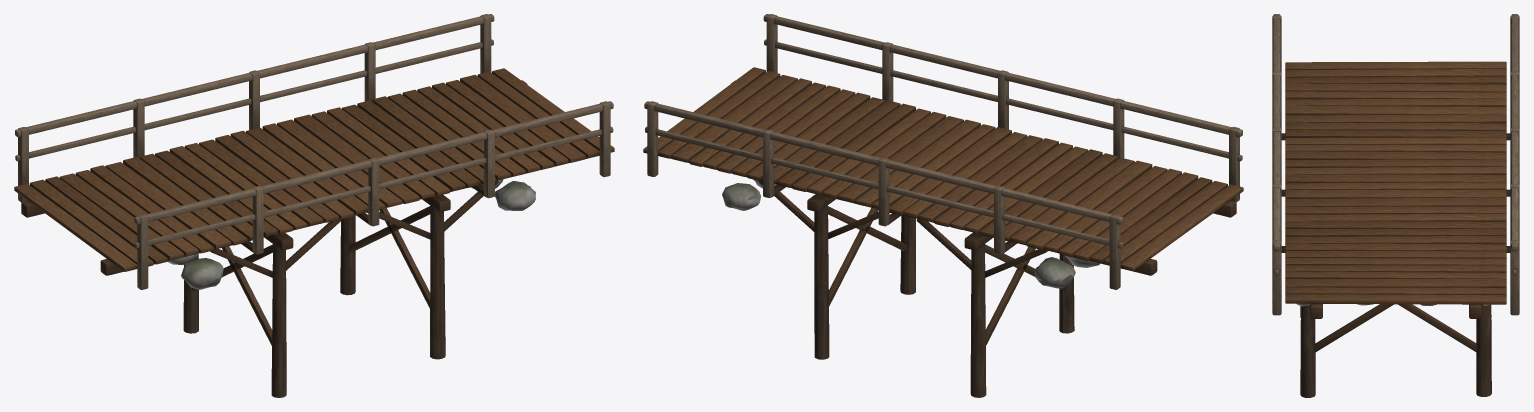
The model's file is bridge.glb.
3 views of the same model, side by side, from view 1: azimuth 30°, elevation 25°; view 2: azimuth 150°, elevation 25°; view 3: azimuth 270°, elevation 25° (orthographic).
Visible parts, largest first — view 1: bridge; view 2: bridge; view 3: bridge.
Boxes of the visible parts, box(x1,y1,x2,y2) form: bridge: box(14, 14, 614, 397); bridge: box(643, 14, 1243, 397); bridge: box(1272, 14, 1519, 397).
Size of the model in its own units: 10.2 by 4.42 by 4.36.
Materials: 1 (1 with a texture image).
